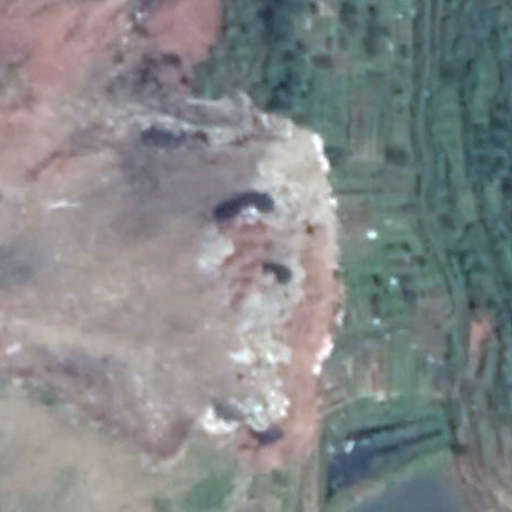msw: (191, 183, 301, 431)
